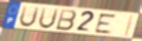2: (74, 10, 97, 35)
B: (55, 8, 78, 32)
E: (94, 13, 117, 34)
I: (122, 14, 136, 38)
U: (18, 5, 41, 29), (38, 7, 60, 30)
